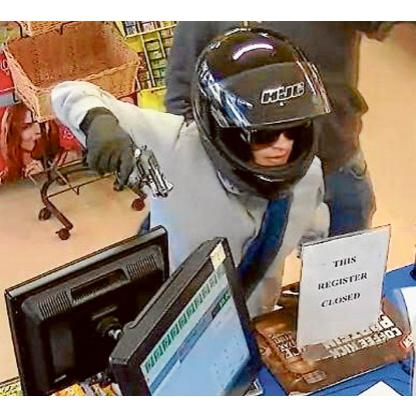gun: (105, 137, 176, 201)
